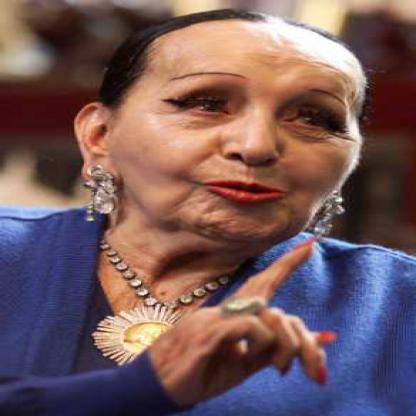face: (111, 18, 373, 248)
